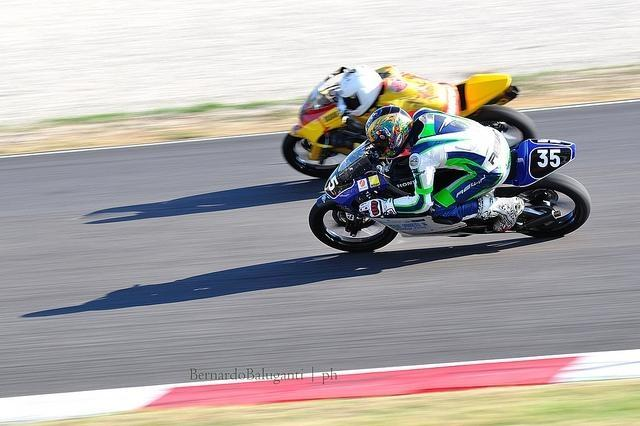motorcycle: (306, 141, 590, 254), (278, 63, 544, 181)
